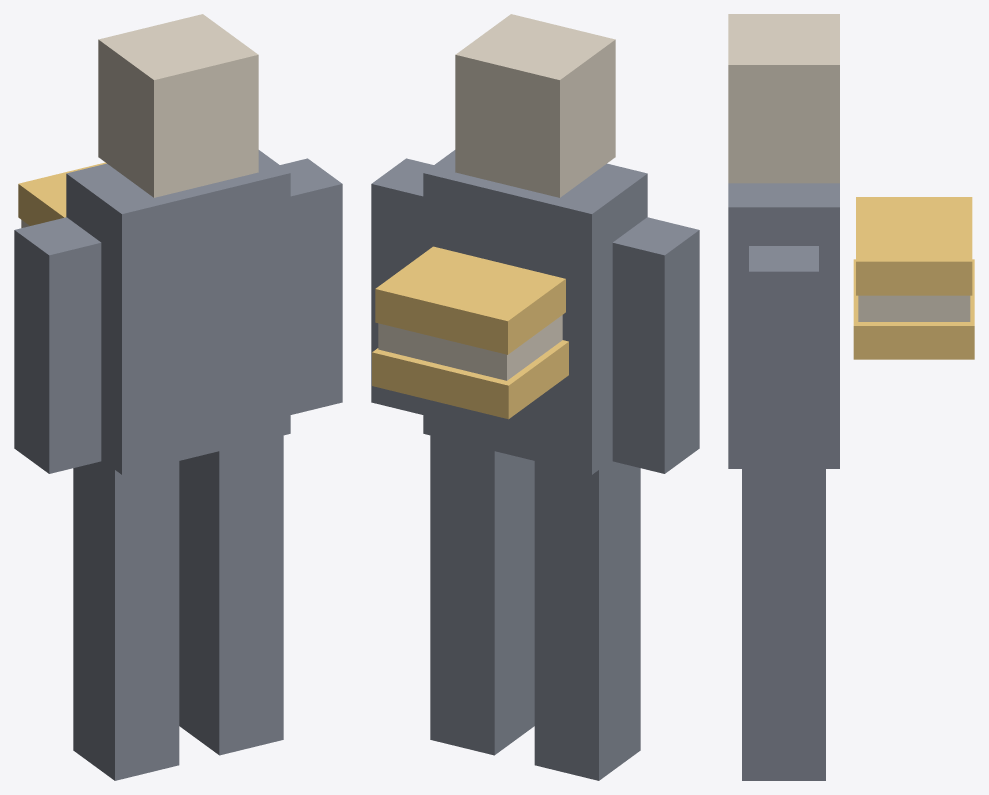
File: npc_traeger.glb
The picture shows the model from 3 angles, left to right: view 1: azimuth 30°, elevation 25°; view 2: azimuth 150°, elevation 25°; view 3: azimuth 270°, elevation 25°; orthographic projection.
Parts seen in each view (by area): view 1: rumpf, bein_links, bein_rechts, kopf, arm_links, arm_rechts, aktenstapel_3; view 2: rumpf, bein_links, bein_rechts, kopf, arm_links, aktenstapel_3, aktenstapel_1, arm_rechts, aktenstapel_2; view 3: bein_rechts, kopf, arm_rechts, rumpf, aktenstapel_3, aktenstapel_1, aktenstapel_2.
Part boxes in pixels (x1,y1,x2,y2): rumpf: (66,150,290,474); bein_links: (73,460,179,780); bein_rechts: (179,435,283,755); kopf: (98,14,258,197); arm_links: (14,217,101,473); arm_rechts: (280,158,342,414); aktenstapel_3: (18,162,106,225); rumpf: (423,150,647,474); bein_links: (534,460,640,780); bein_rechts: (430,435,534,755); kopf: (455,14,615,197); arm_links: (612,217,699,473); aktenstapel_3: (375,246,565,354); aktenstapel_1: (372,340,568,419); arm_rechts: (371,158,433,414); aktenstapel_2: (378,315,562,380); bein_rechts: (742,469,825,780); kopf: (728,14,839,183); arm_rechts: (749,246,818,490); rumpf: (728,183,839,468); aktenstapel_3: (856,197,972,295); aktenstapel_1: (853,259,974,359); aktenstapel_2: (858,295,970,321).
Bounding box in the file's own units: 0.73 × 1.66 × 0.53.
